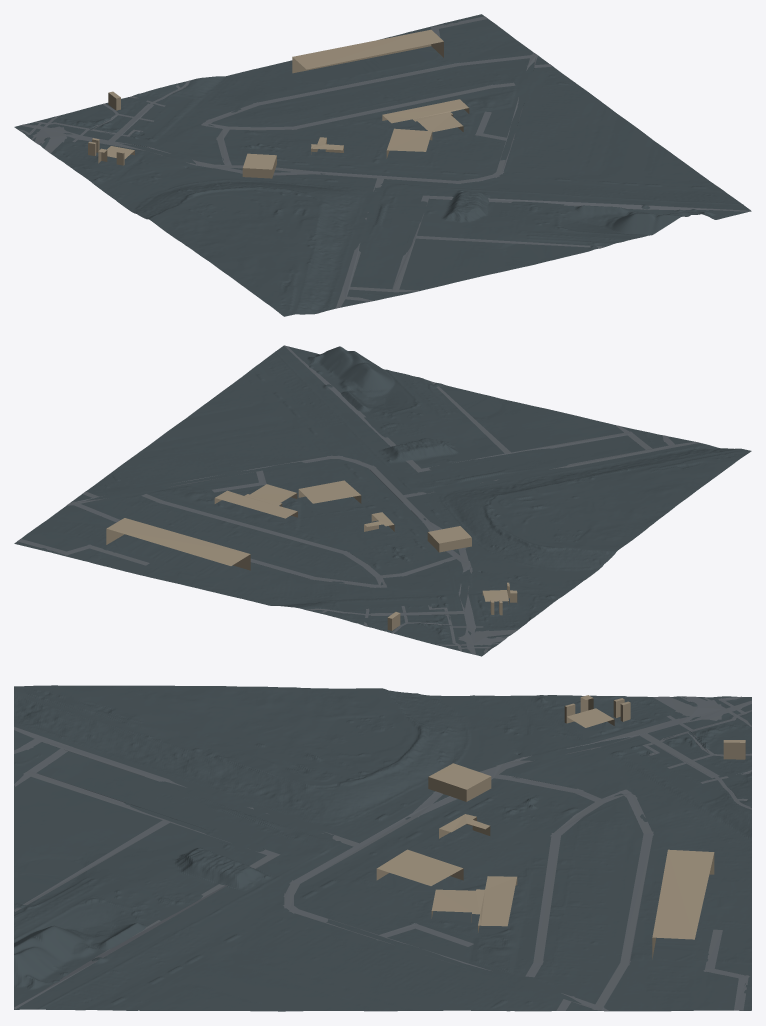
The model's file is epsg26910-1445-10878.lod0.glb.
3 renders of one model, top to bottom at view 1: azimuth 30°, elevation 25°; view 2: azimuth 150°, elevation 25°; view 3: azimuth 270°, elevation 25°, orthographic. The views are drawn at different scales.
Parts seen in each view (by area): view 1: epsg26910-1445-10878-lod0; view 2: epsg26910-1445-10878-lod0; view 3: epsg26910-1445-10878-lod0.
Boxes of the visible parts, bbox=[...] form: epsg26910-1445-10878-lod0: bbox=[14, 14, 751, 316]; epsg26910-1445-10878-lod0: bbox=[14, 345, 751, 656]; epsg26910-1445-10878-lod0: bbox=[14, 685, 751, 1011].
Bounding box in the file's own units: 384 × 15.34 × 384.
